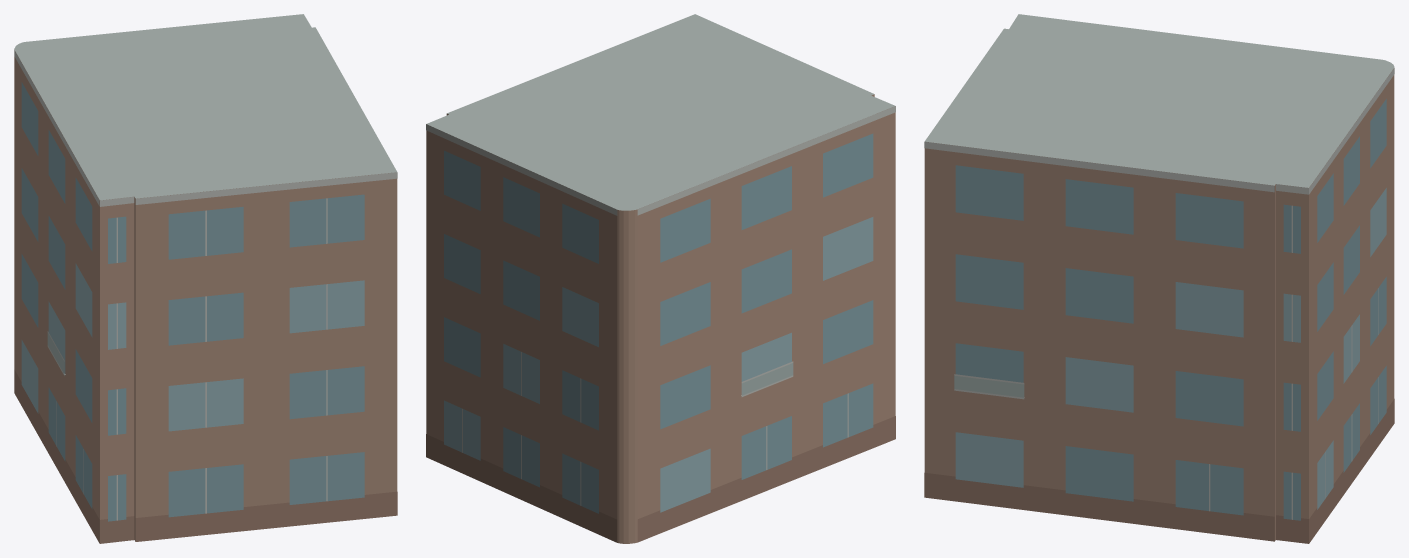
Rendered from survey-upis-32742667.glb.
3 views of the same model, side by side, from view 1: azimuth 30°, elevation 25°; view 2: azimuth 150°, elevation 25°; view 3: azimuth 270°, elevation 25° (orthographic). The views are drawn at different scales.
Visible parts, largest first — view 1: survey-upis-32742667.tmp; view 2: survey-upis-32742667.tmp; view 3: survey-upis-32742667.tmp.
Part boxes in pixels (x1,y1,x2,y2): survey-upis-32742667.tmp: (14, 14, 397, 543); survey-upis-32742667.tmp: (426, 14, 895, 543); survey-upis-32742667.tmp: (924, 14, 1394, 543).
Size of the model in its own units: 13.53 by 12.9 by 15.45.
